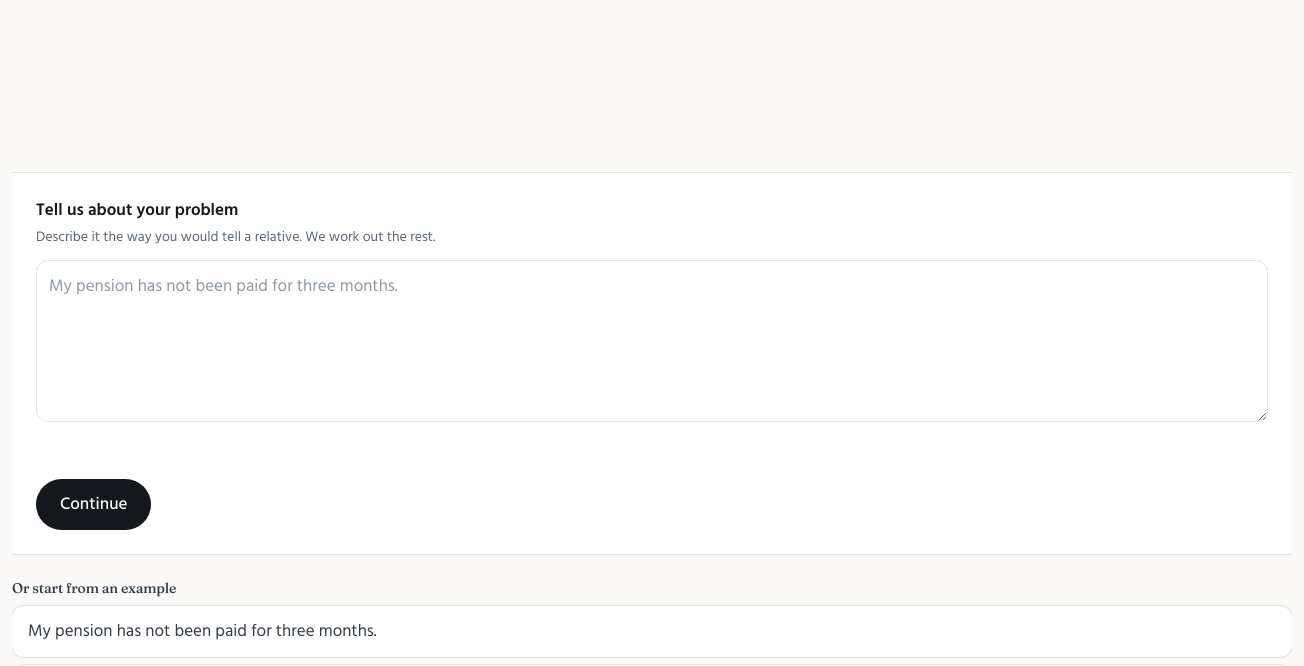
Test: Clarify › offers an "I am not sure" escape on every question
(page scrolled)
Step 1. Type "my pension has not been paid" into the text box labelled "Tell us about your problem" → x=652, y=341, box [36,260,1268,422]
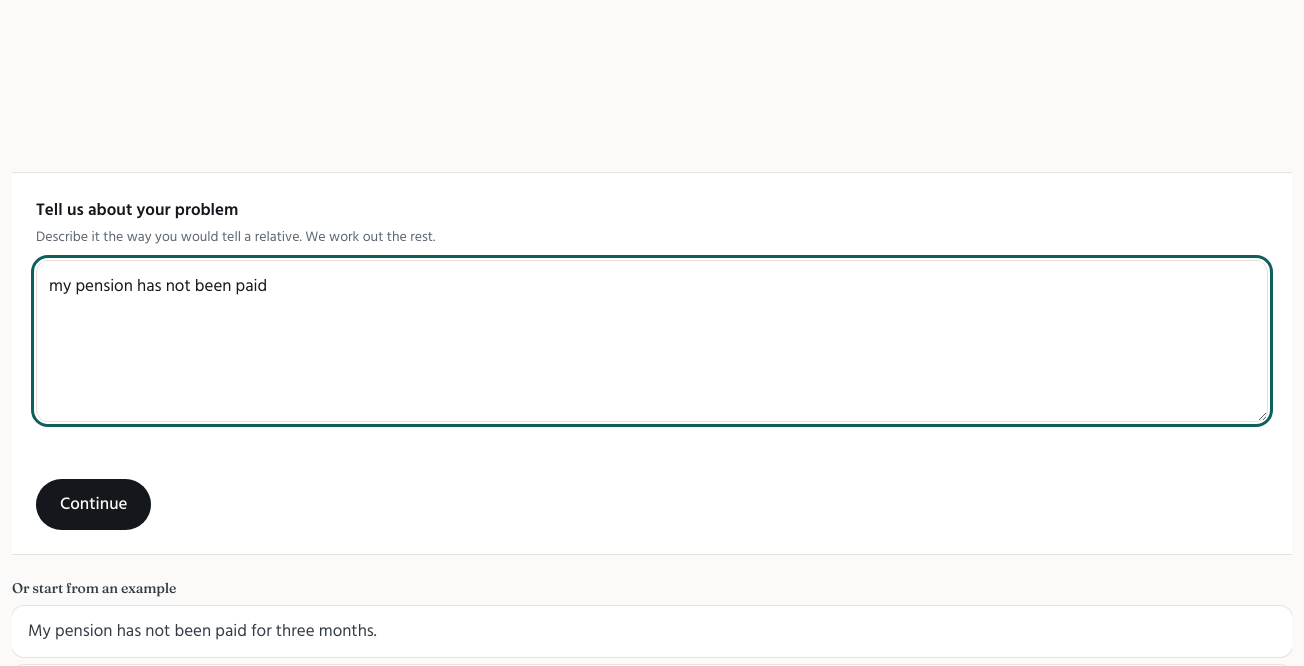
Step 2. Click the button "Continue" → x=94, y=504, box [36,479,151,530]
(page scrolled)
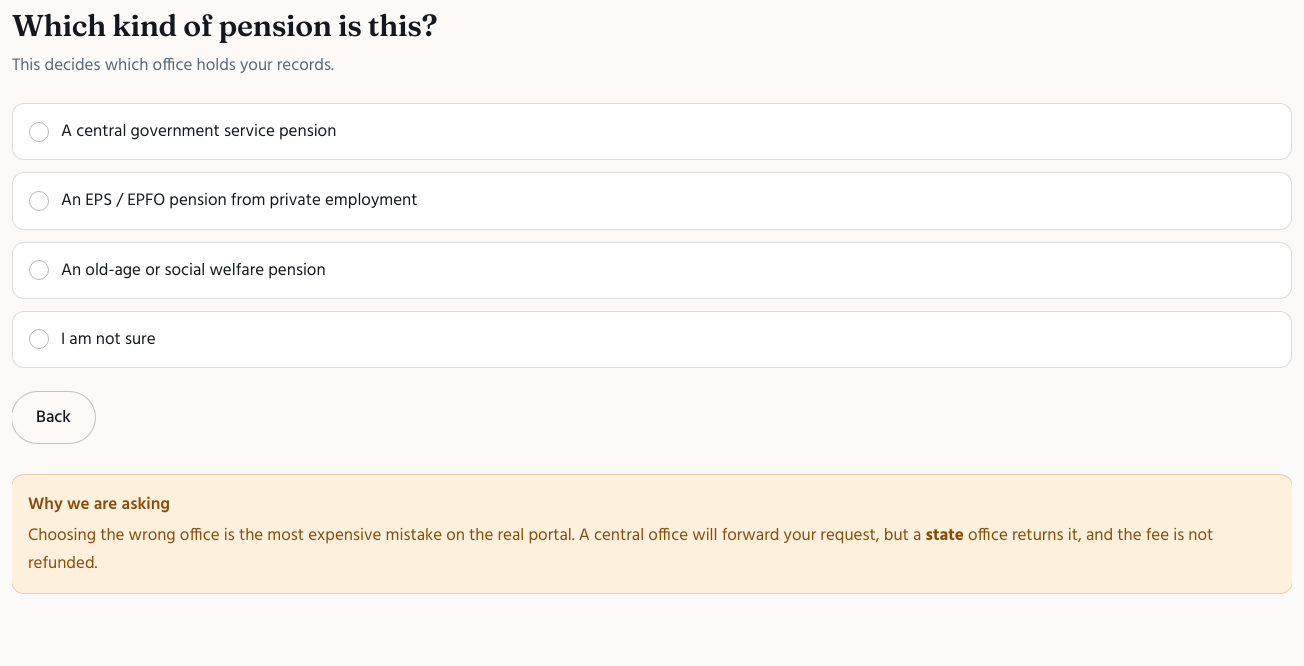
Expected: the radio button labelled "I am not sure" is shown, [12,311,1292,368]
